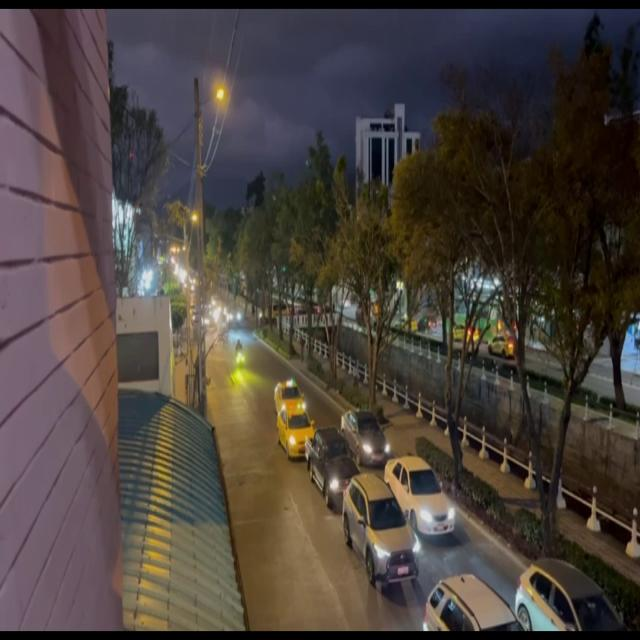CMT: (308, 428, 356, 504)
